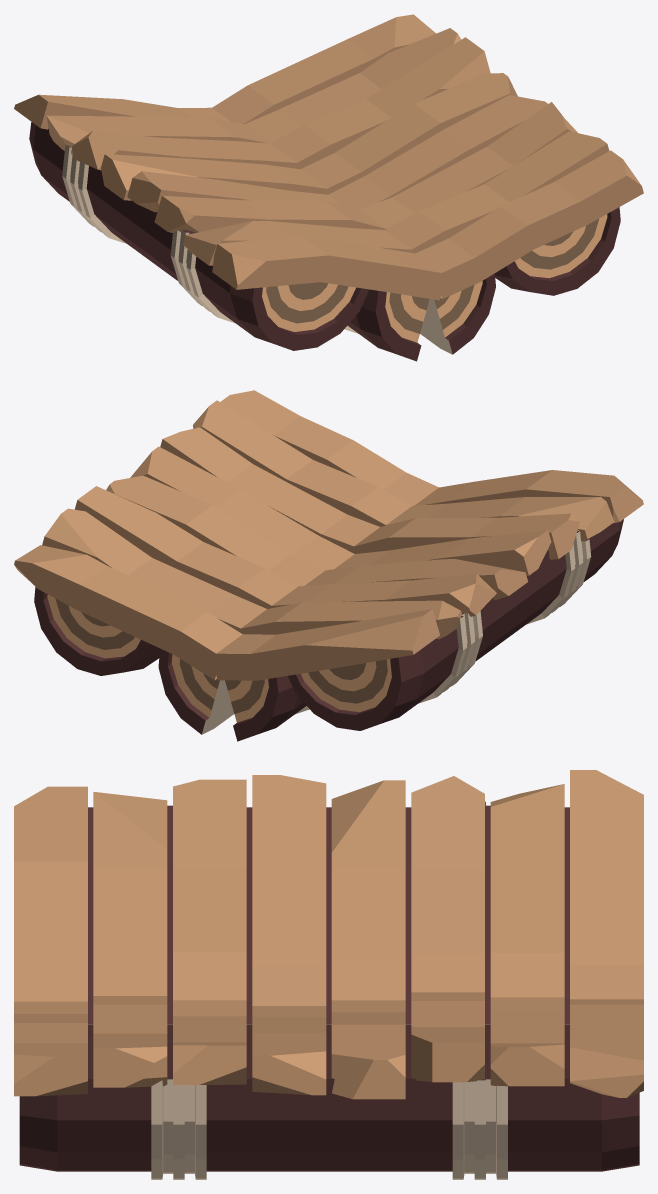
The model's file is BrokenRaftWithLogs.fbx.
3 views of the same model, one above another, from view 1: azimuth 30°, elevation 25°; view 2: azimuth 150°, elevation 25°; view 3: azimuth 270°, elevation 25° (orthographic). The views are drawn at different scales.
Parts seen in each view (by area): view 1: WoodRaft.001, WoodRaft, Raft, Raft.001; view 2: WoodRaft.001, WoodRaft, Raft, Raft.001; view 3: WoodRaft, WoodRaft.001, Raft.001, Raft.
Part boxes in pixels (left/top/right/bottom): WoodRaft.001: left=212, top=14, right=643, bottom=298; WoodRaft: left=14, top=94, right=446, bottom=300; Raft: left=29, top=122, right=429, bottom=361; Raft.001: left=420, top=207, right=620, bottom=354; WoodRaft.001: left=14, top=390, right=438, bottom=680; WoodRaft: left=210, top=470, right=643, bottom=680; Raft: left=225, top=519, right=623, bottom=741; Raft.001: left=34, top=587, right=234, bottom=734; WoodRaft: left=14, top=770, right=643, bottom=1005; WoodRaft.001: left=14, top=992, right=643, bottom=1099; Raft.001: left=19, top=1025, right=639, bottom=1179; Raft: left=88, top=801, right=569, bottom=1024.
Bounding box in the file's own units: 411 × 161 × 396.
